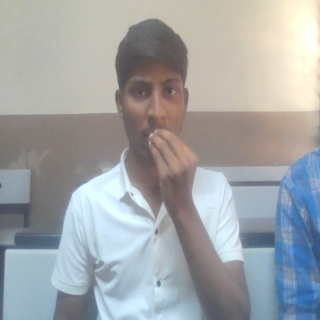Food: (146, 126, 200, 215)
